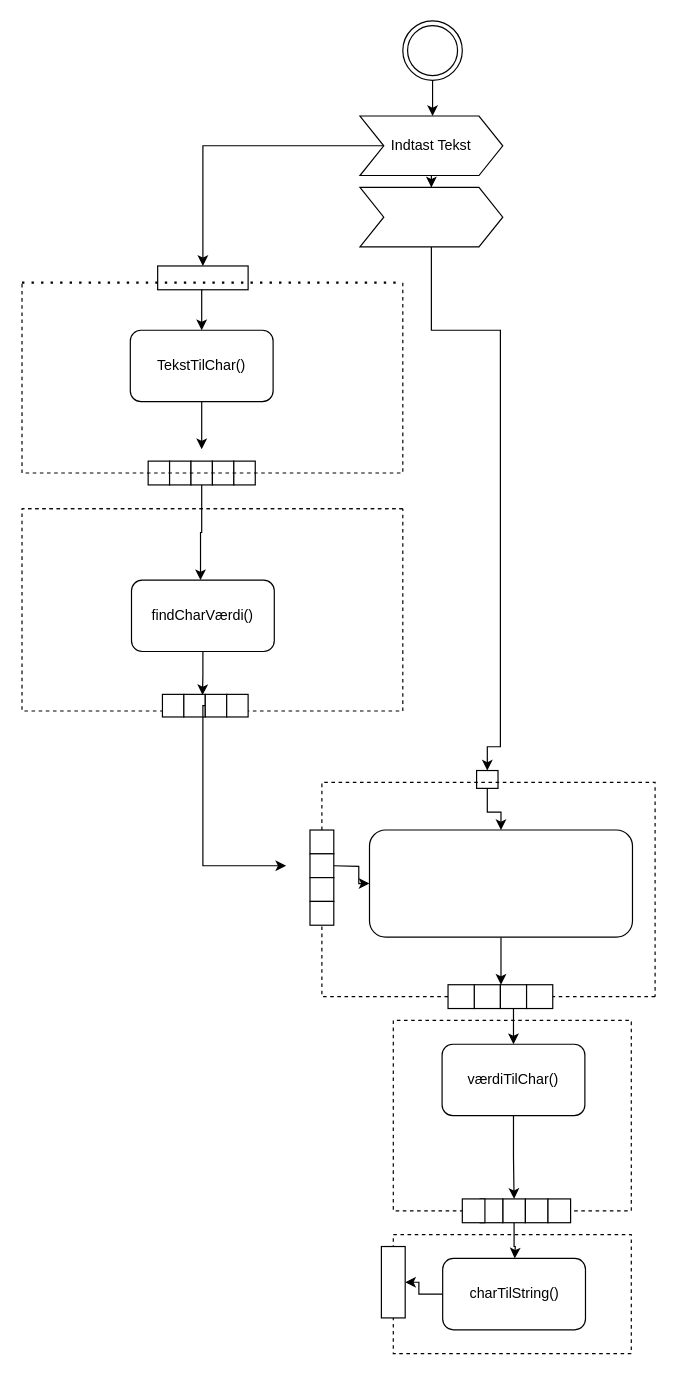
The diagram is 677 pixels wide and 1376 high, and some of its shapes have lost their labels. Here are the shapes that lost their labels. From the top down, the box of each, then its label:
(359, 186, 503, 247): Indtast shift
(368, 829, 632, 937): plusCharVærdierKonkatineretMedShift()
